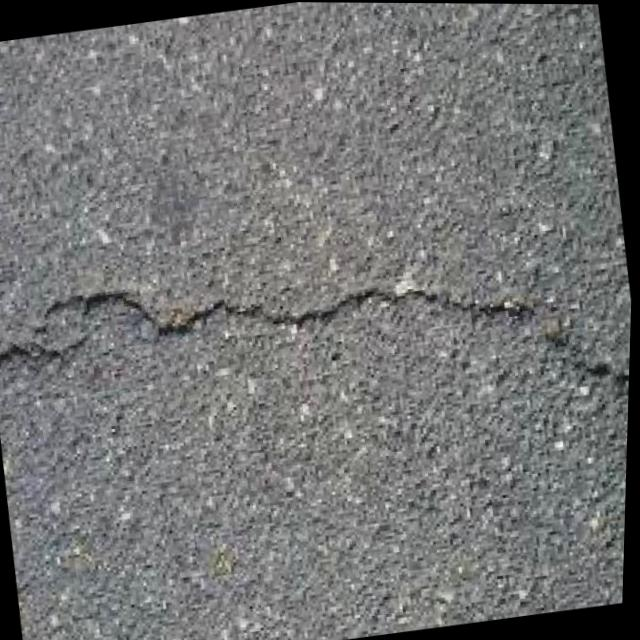Crack: (0, 178, 636, 489)
